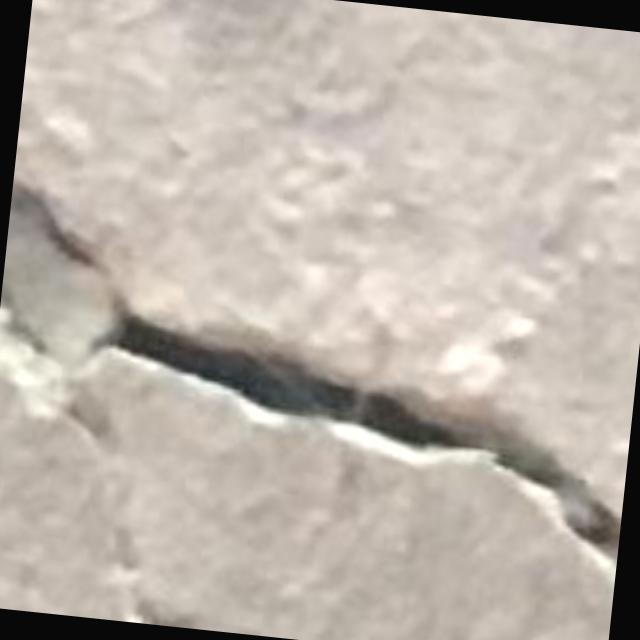crack: (0, 183, 621, 563)
